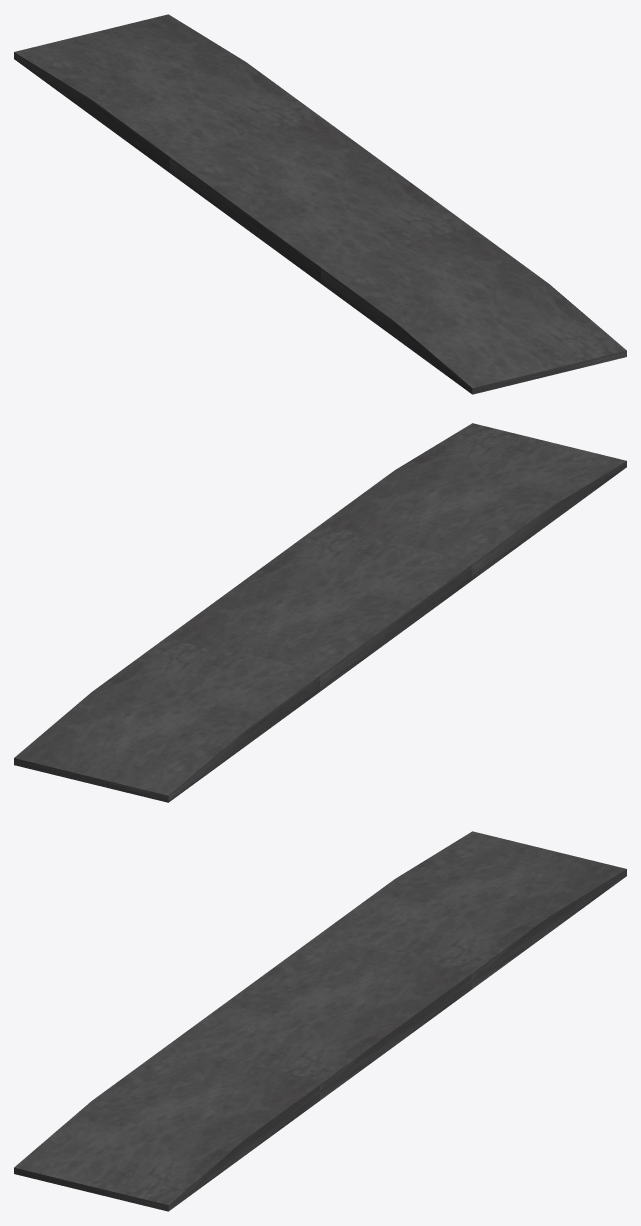
File: bruecke.glb
3 renders of one model, top to bottom at view 1: azimuth 30°, elevation 25°; view 2: azimuth 150°, elevation 25°; view 3: azimuth 330°, elevation 25°, orthographic.
Parts seen in each view (by area): view 1: vorne, mitte, hinten; view 2: hinten, mitte, vorne; view 3: vorne, mitte, hinten.
Part boxes in pixels (x1,y1,x2,y2): vorne: [318, 227, 626, 394]; mitte: [166, 116, 473, 283]; hinten: [14, 14, 323, 172]; hinten: [14, 638, 323, 802]; mitte: [166, 524, 475, 691]; vorne: [318, 423, 626, 580]; vorne: [14, 1044, 322, 1211]; mitte: [167, 933, 474, 1100]; hinten: [317, 831, 626, 989].
Bounding box in the file's own units: 20 × 2 × 103.
1 material, 1 textured.
